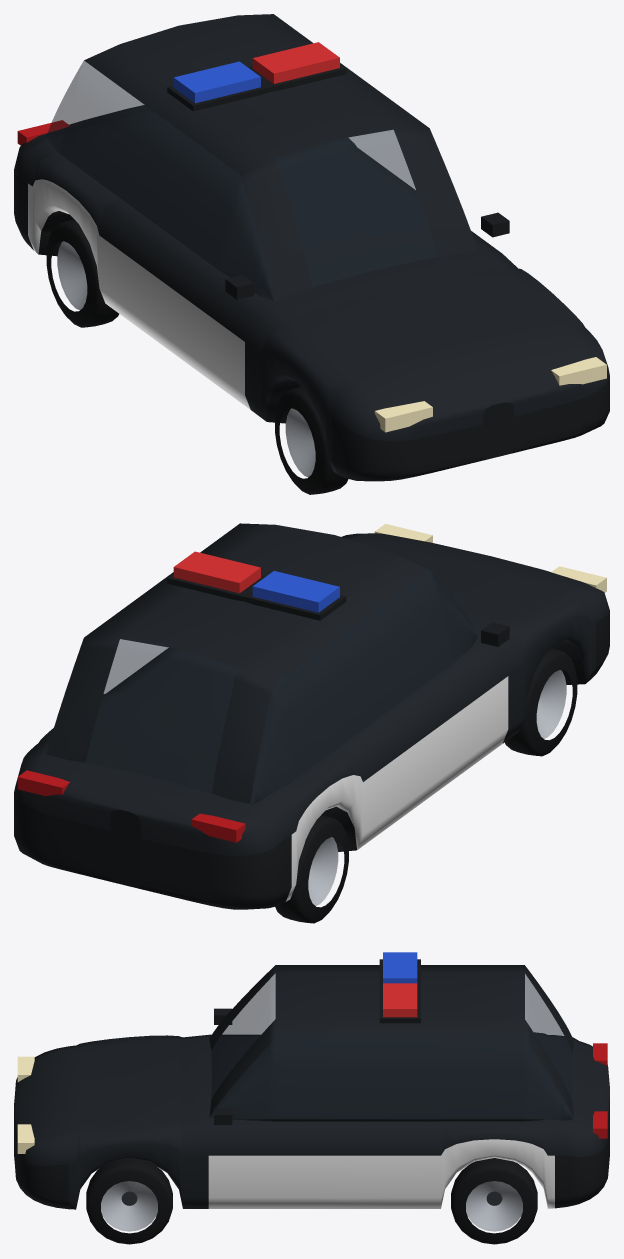
The model's file is desktop.glb.
3 renders of one model, top to bottom at view 1: azimuth 30°, elevation 25°; view 2: azimuth 150°, elevation 25°; view 3: azimuth 270°, elevation 25°, orthographic. The views are drawn at different scales.
Visible parts, largest first — view 1: body, glass, sirens, tyre_rr, tyre_fr, rim_rr, rim_fr, light_head_r, light_head_l; view 2: body, glass, sirens, tyre_rr, tyre_fr, rim_fr, rim_rr, light_brake_r, light_brake_l, light_head_r; view 3: body, glass, tyre_rl, tyre_fl, sirens, rim_fl, rim_rl, light_head_l.
Part boxes in pixels (x1,y1,x2,y2): body: (14,14,609,481); glass: (46,61,437,300); sirens: (173,42,339,103); tyre_rr: (46,219,118,327); tyre_fr: (275,386,348,494); rim_rr: (57,241,87,310); rim_fr: (285,408,315,477); light_head_r: (374,401,432,432); light_head_l: (551,357,606,385); body: (14,523,609,909); glass: (85,570,477,805); sirens: (173,551,339,612); tyre_rr: (275,815,348,923); tyre_fr: (505,648,577,756); rim_fr: (536,670,566,738); rim_rr: (308,837,338,905); light_brake_r: (191,813,245,842); light_brake_l: (17,770,69,795); light_head_r: (551,566,606,592); body: (14,959,609,1209); glass: (209,973,573,1120); tyre_rl: (451,1158,537,1244); tyre_fl: (86,1158,172,1244); sirens: (383,952,417,1017); rim_fl: (101,1181,157,1231); rim_rl: (466,1181,522,1231); light_head_l: (17,1124,34,1153).
Size of what is drawn, in the model's own units: 2.07 by 1.96 by 4.9.
